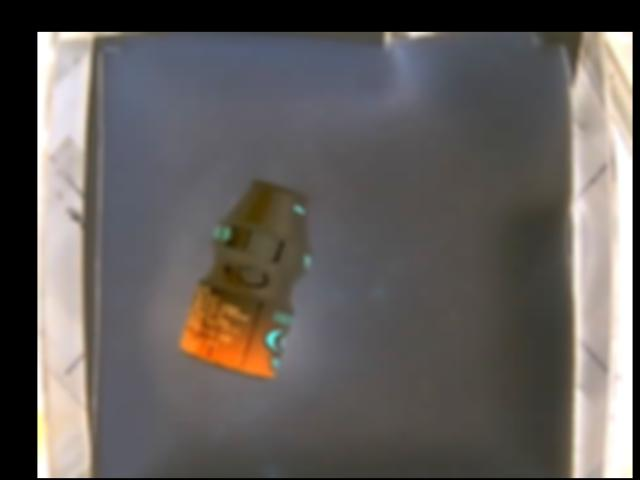Bottle: (181, 177, 311, 380)
